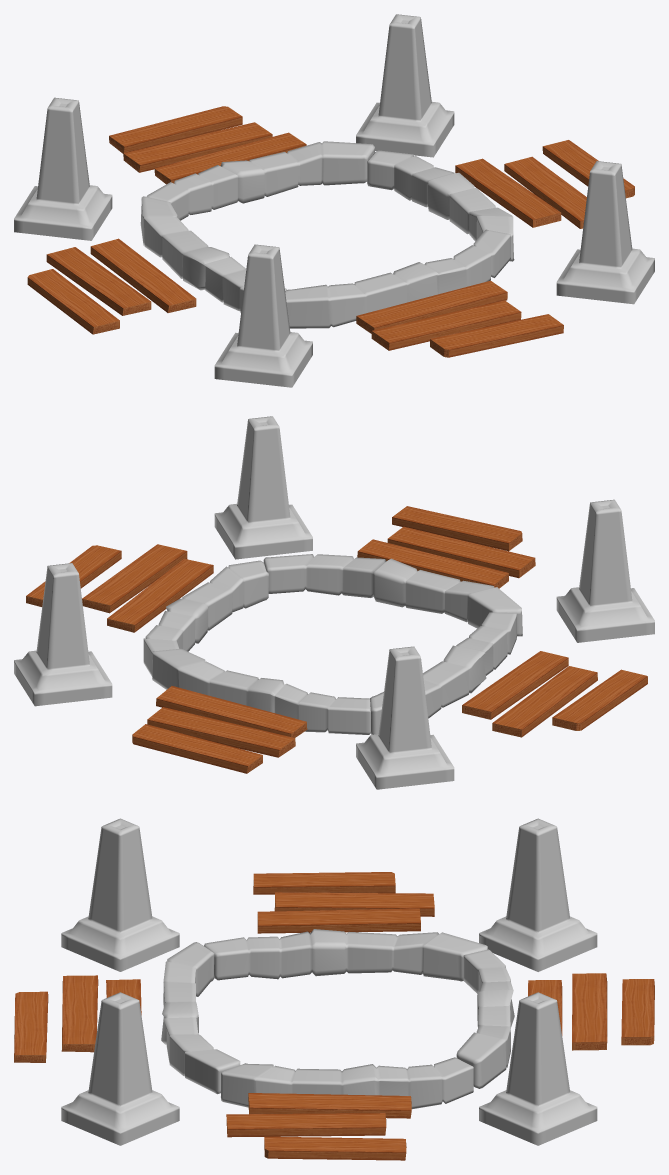
File: arenaCenterPiece.fbx
3 renders of one model, top to bottom at view 1: azimuth 30°, elevation 25°; view 2: azimuth 150°, elevation 25°; view 3: azimuth 270°, elevation 25°, orthographic. The views are drawn at different scales.
Parts seen in each view (by area): view 1: Cube.016, Cube.019, Cube.017, Cube.018, Cube.014, default.004, default.006, default.003, default.010, default.007, default, default.005 (+5 smaller); view 2: Cube.016, Cube.019, Cube.017, Cube.018, Cube.014, default.010, default.009, default, default.007, default.004, default.006, default.001 (+5 smaller); view 3: Cube.016, Cube.014, Cube.018, Cube.019, Cube.017, default.001, default.006, default, default.002, default.008, default.007, default.010 (+5 smaller).
Boxes of the visible parts, x1,y1,x2,y2 form: Cube.016: [14, 14, 654, 387]; Cube.019: [285, 229, 510, 328]; Cube.017: [146, 141, 374, 220]; Cube.018: [367, 150, 514, 261]; Cube.014: [140, 196, 286, 312]; default.004: [371, 300, 521, 350]; default.006: [90, 238, 196, 312]; default.003: [356, 280, 507, 333]; default.010: [123, 122, 272, 172]; default.007: [46, 247, 151, 315]; default: [455, 158, 561, 227]; default.005: [430, 314, 563, 357]; Cube.016: [14, 416, 654, 789]; Cube.019: [263, 554, 522, 636]; Cube.017: [152, 648, 370, 734]; Cube.018: [143, 560, 268, 676]; Cube.014: [370, 612, 516, 734]; default.010: [147, 707, 295, 757]; default.009: [156, 686, 307, 737]; default: [107, 558, 213, 632]; default.007: [492, 666, 597, 737]; default.004: [387, 526, 535, 578]; default.006: [462, 651, 568, 719]; default.001: [82, 544, 187, 613]; Cube.016: [61, 818, 597, 1145]; Cube.014: [204, 929, 487, 981]; Cube.018: [220, 1057, 473, 1109]; Cube.019: [161, 942, 240, 1094]; Cube.017: [456, 949, 514, 1088]; default.001: [226, 1113, 386, 1137]; default.006: [257, 908, 420, 933]; default: [248, 1093, 411, 1118]; default.002: [264, 1136, 406, 1160]; default.008: [253, 872, 395, 894]; default.007: [274, 892, 434, 916]; default.010: [572, 973, 607, 1050].
Bounding box in the file's own units: 1030 × 218 × 1000.
